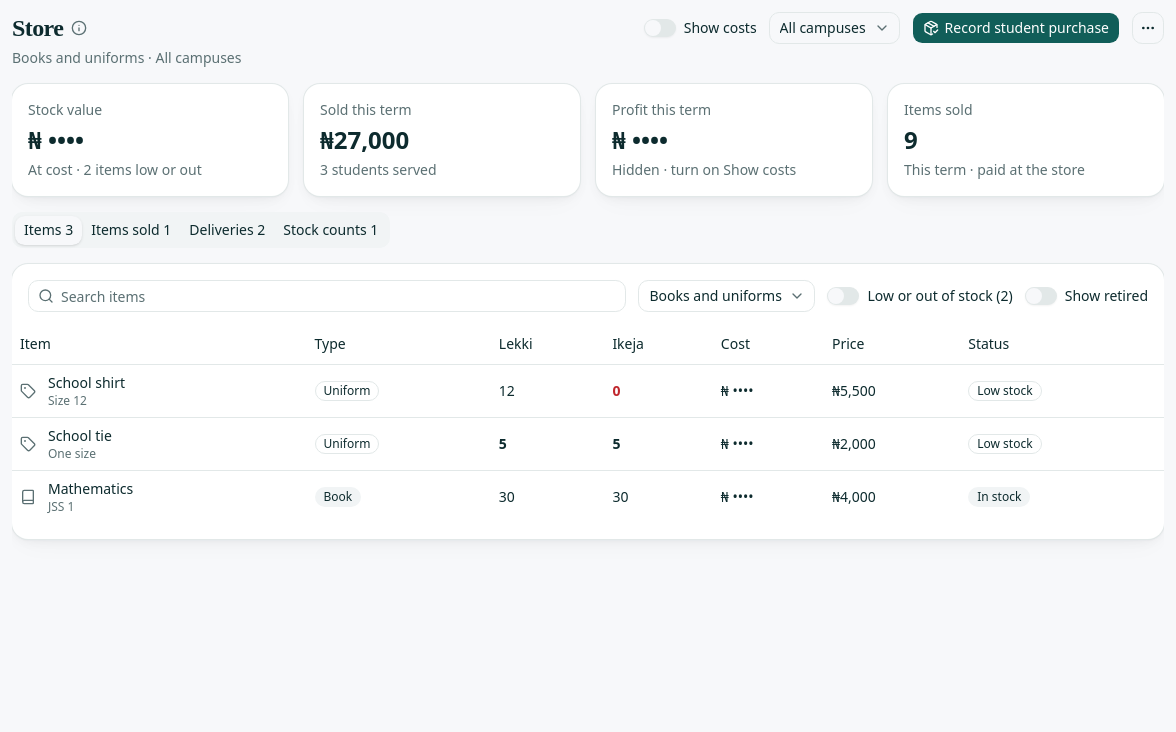
Test: StorePage › gives a bursar who can only count the overflow menu with just the count, keeping the purchase button
The width and height of the screenshot is (1176, 732).
Expected: the button "Record student purchase" is shown, [912,12,1120,44]
What coordinates should you click on to do the following:
click the button named "More actions"
I would click on:
 (1148, 28)
Its box is [1132,12,1164,44].
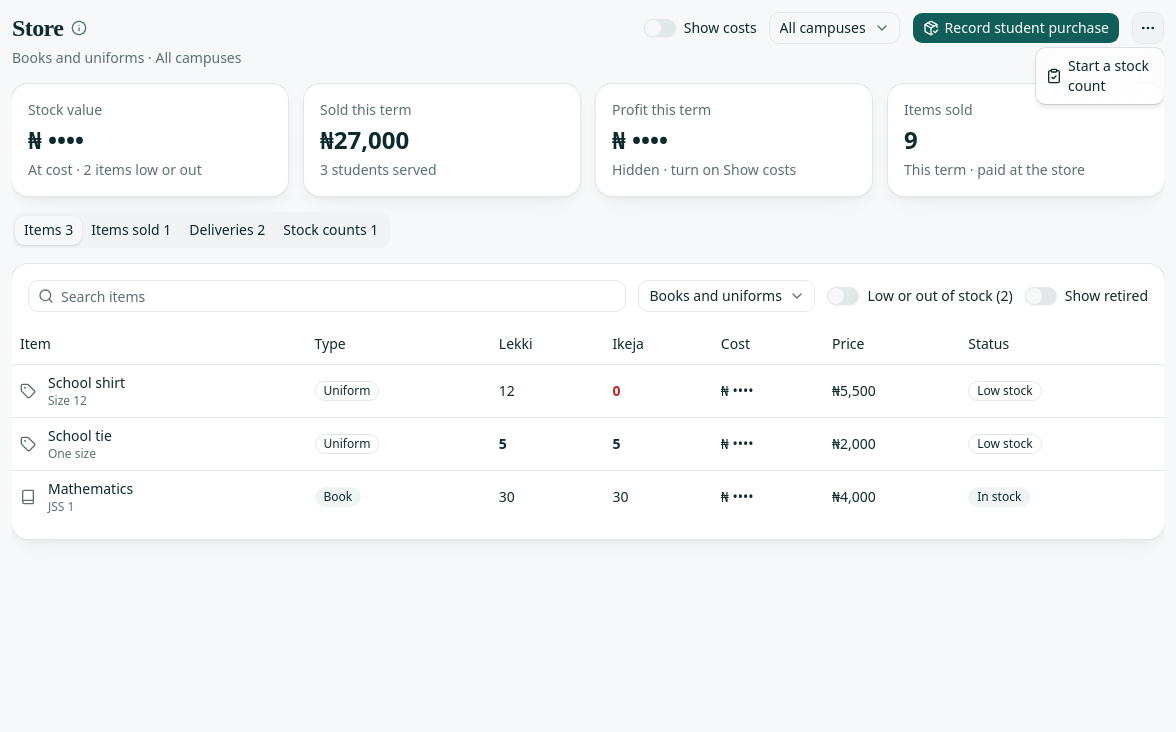
Expected: the menu item "Start a stock count" is shown, [1040,52,1160,100]
